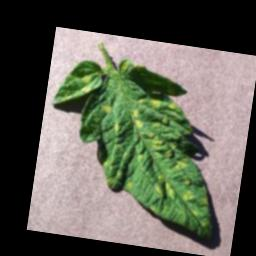Leaf_Mold: (65, 53, 233, 237)
